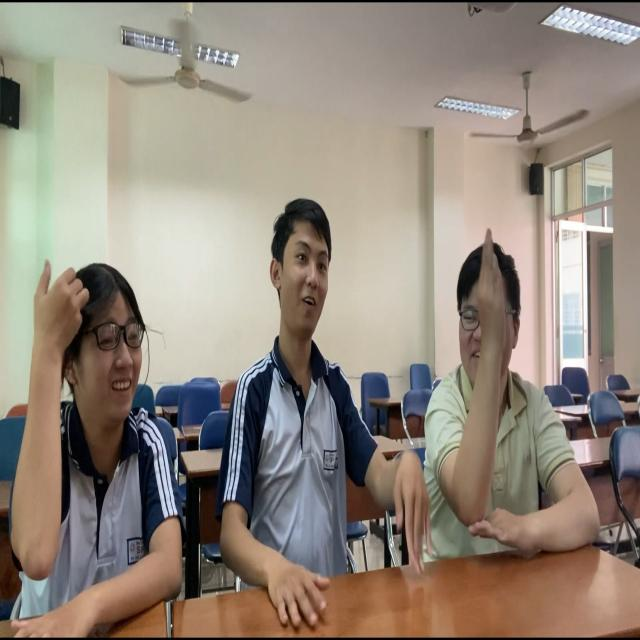raise_hand: (429, 226, 601, 567)
